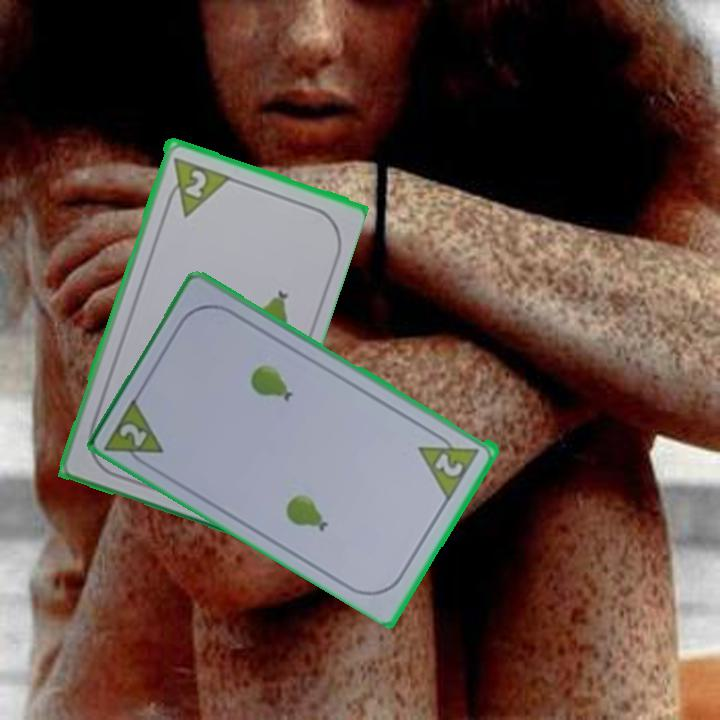2p: (160, 153, 231, 219), (431, 449, 467, 480), (116, 419, 151, 450)
